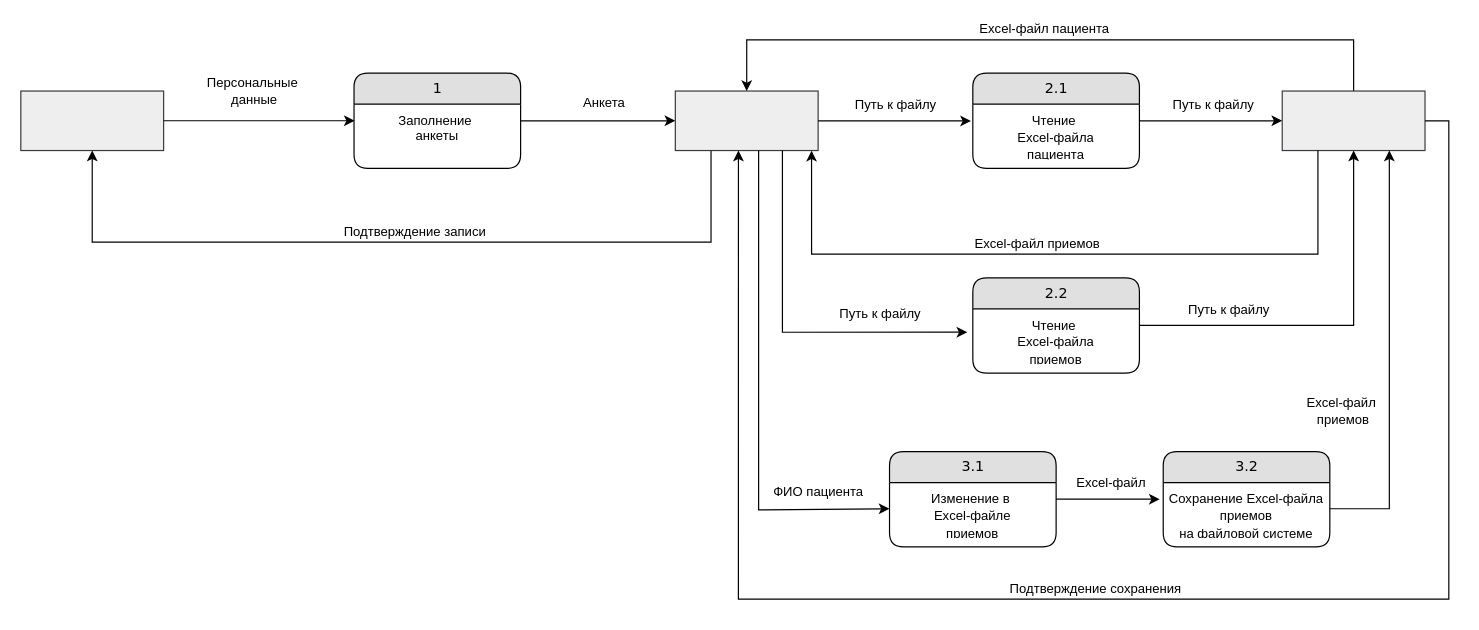
The diagram is 1479 pixels wide and 630 high, and some of its shapes have lost their labels. The centre of each missing label's shape, as x and y in pixels:
Пациент: (x=92, y=120)
Сотрудник ресепшена: (x=746, y=120)
Файловая система: (x=1353, y=120)
